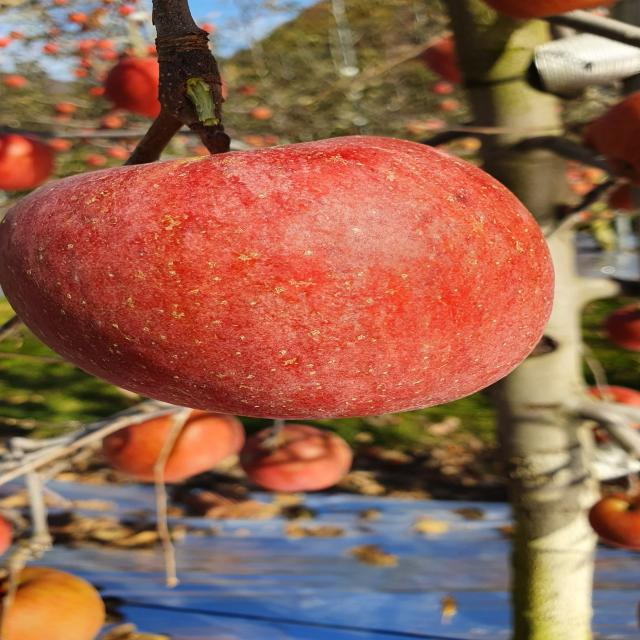fresh: (1, 124, 566, 433)
